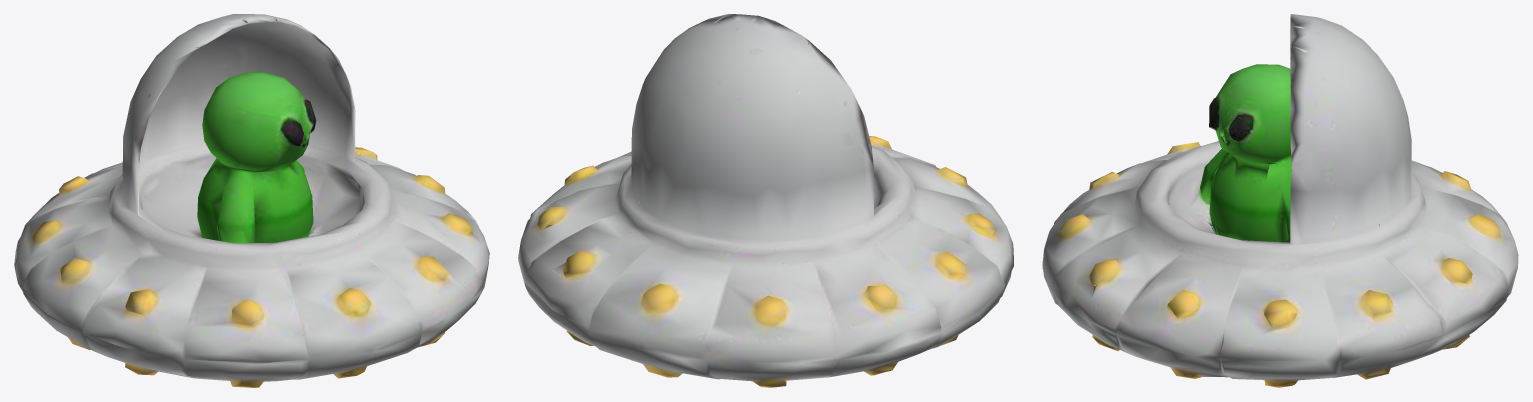
File: alien.glb
3 views of the same model, side by side, from view 1: azimuth 30°, elevation 25°; view 2: azimuth 150°, elevation 25°; view 3: azimuth 270°, elevation 25° (orthographic). The views are drawn at different scales.
Parts seen in each view (by area): view 1: prop; view 2: prop; view 3: prop.
Boxes of the visible parts, x1=… form: prop: x1=14, y1=14, x2=489, y2=387; prop: x1=518, y1=14, x2=1013, y2=387; prop: x1=1042, y1=14, x2=1518, y2=387.
Bounding box in the file's own units: 0.9809 × 0.7719 × 0.9781.
1 material, 1 textured.
